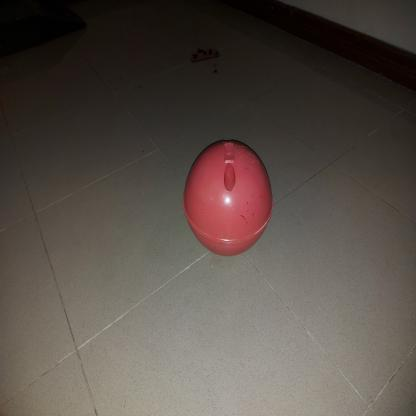red_buoy: (179, 134, 279, 264)
